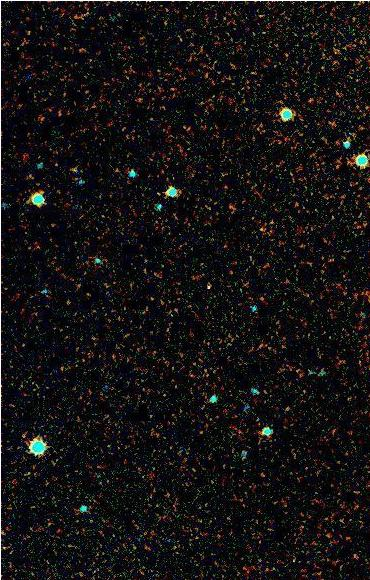star: (194, 273, 224, 303)
